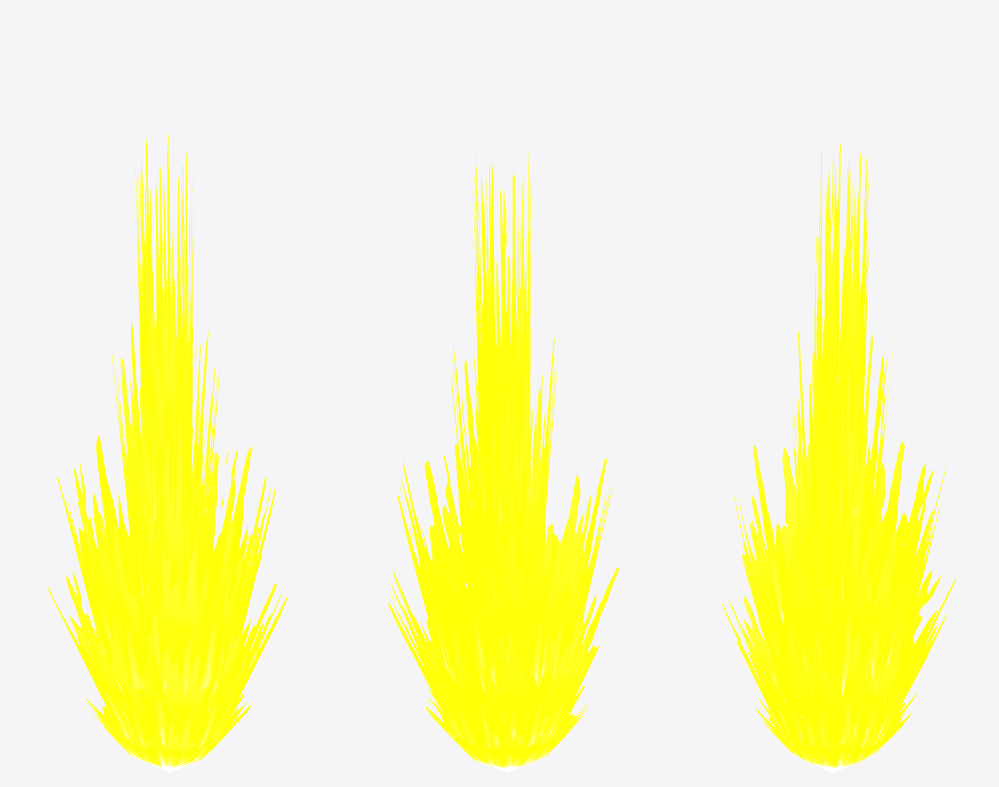
Rendered from sonic-rangers-super-sonic-stomp-aura.glb.
3 renders of one model, left to right at view 1: azimuth 30°, elevation 25°; view 2: azimuth 150°, elevation 25°; view 3: azimuth 270°, elevation 25°, orthographic.
Parts seen in each view (by area): view 1: Object_26, Object_34; view 2: Object_26, Object_34; view 3: Object_26, Object_34.
Boxes of the visible parts, box(x1,y1,x2,y2) form: Object_26: box(47, 435, 287, 772); Object_34: box(111, 133, 219, 611); Object_26: box(388, 444, 618, 772); Object_34: box(451, 151, 557, 607); Object_26: box(721, 441, 956, 772); Object_34: box(788, 143, 894, 615).
Bounding box in the file's own units: 1.91 × 5.05 × 1.81.
1 material, 1 textured.
